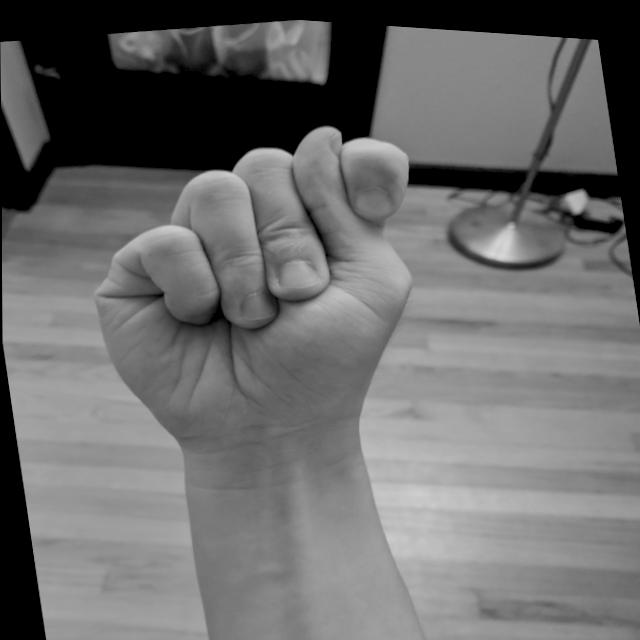T: (64, 90, 461, 491)
